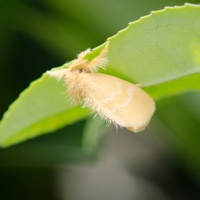insect: (46, 41, 154, 131)
